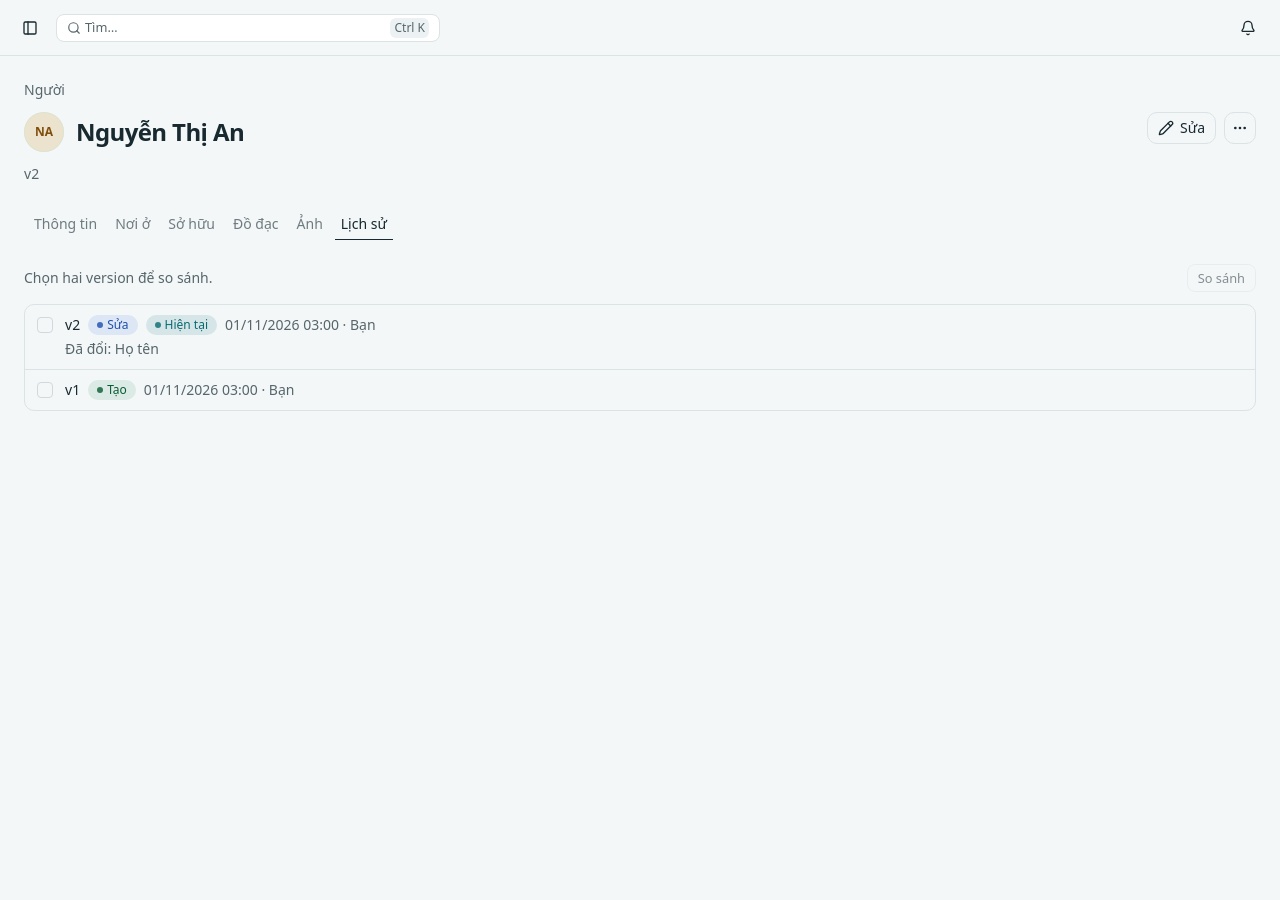
Test: personHistoryRestores
The width and height of the screenshot is (1280, 900).
Expected: the text "Đã đổi: Họ tên" is shown, 65,339 -> 159,359
Click the button "v1 Tạo 01/11/2026 03:00 · Bạn": (112,390) 53,370 -> 1255,410
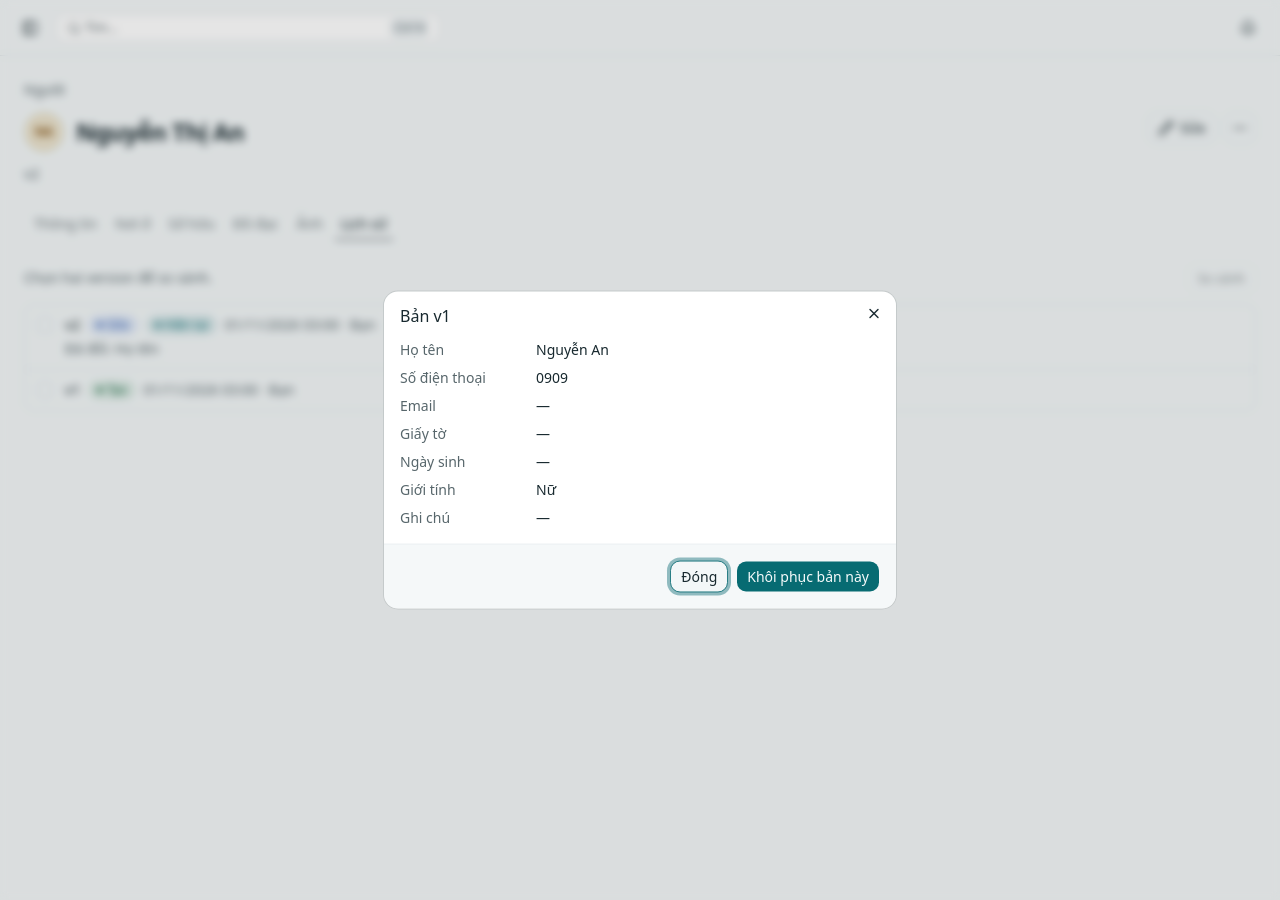
Expected: the text "0909" is shown, 536,368 -> 568,386
Expected: the text "Nữ" is shown, 536,480 -> 556,498
Click the button "Khôi phục bản này": (808,576) 736,560 -> 880,592
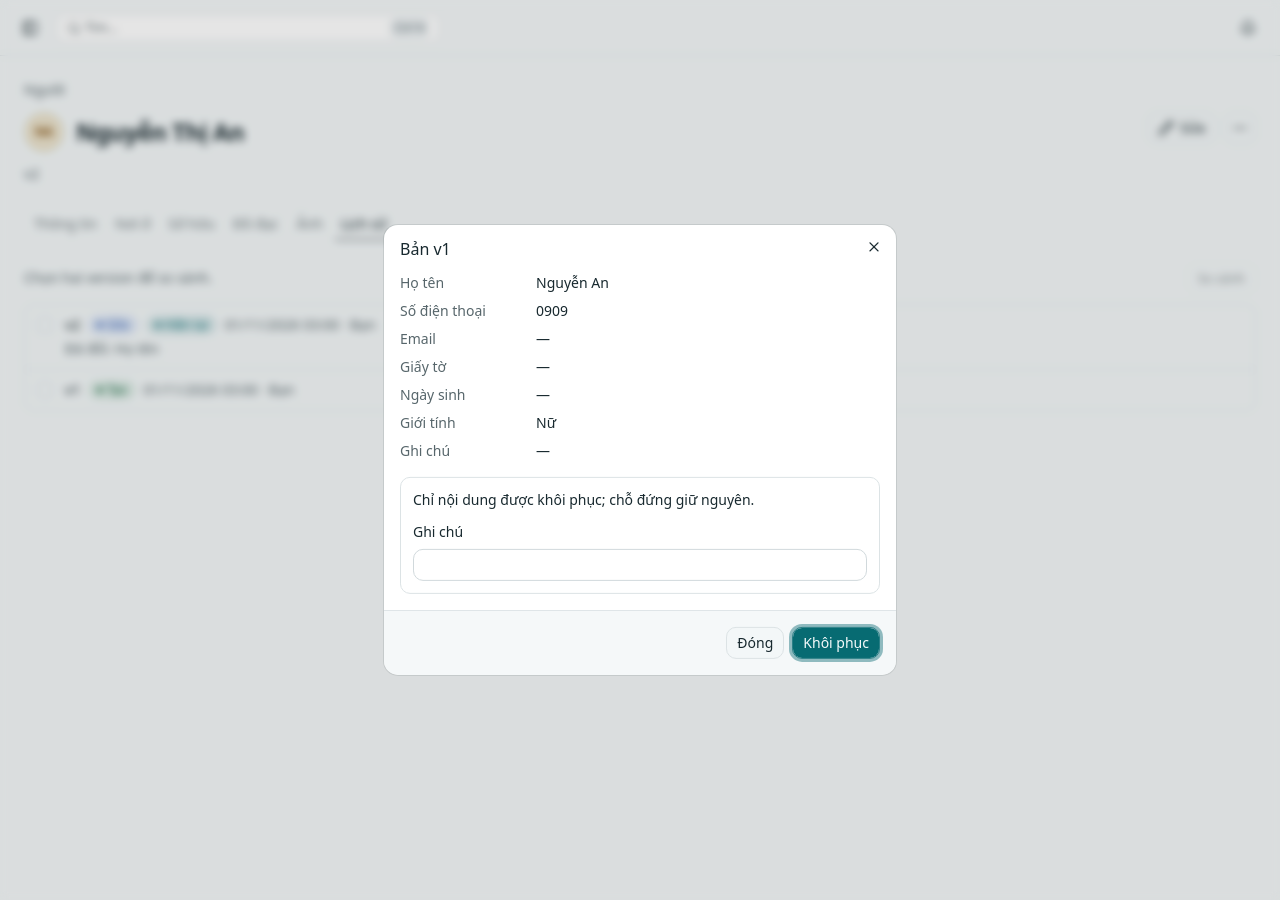
Click the button "Khôi phục": (836,643) 792,627 -> 880,659
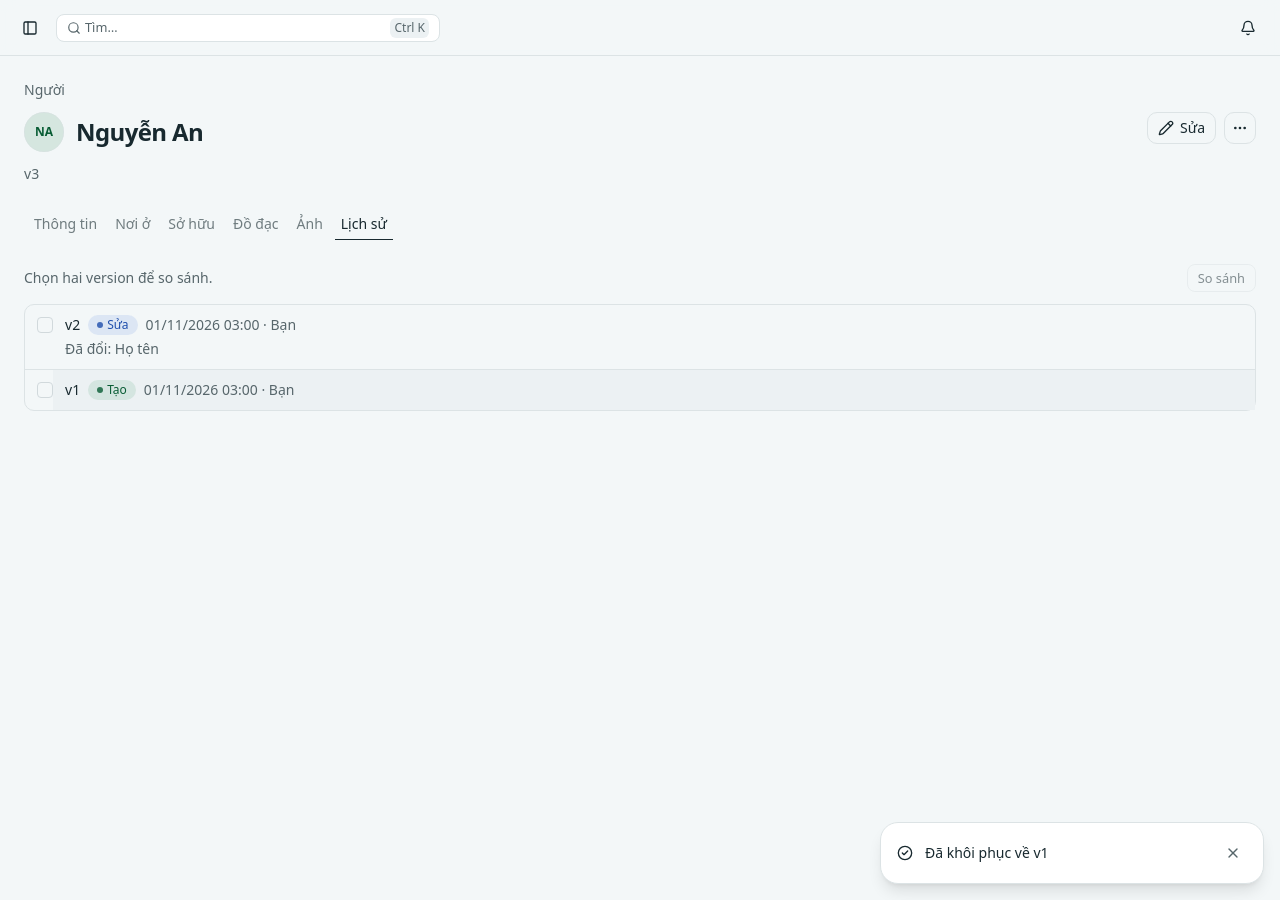
Expected: the heading "Nguyễn An" is shown, 76,116 -> 203,148
